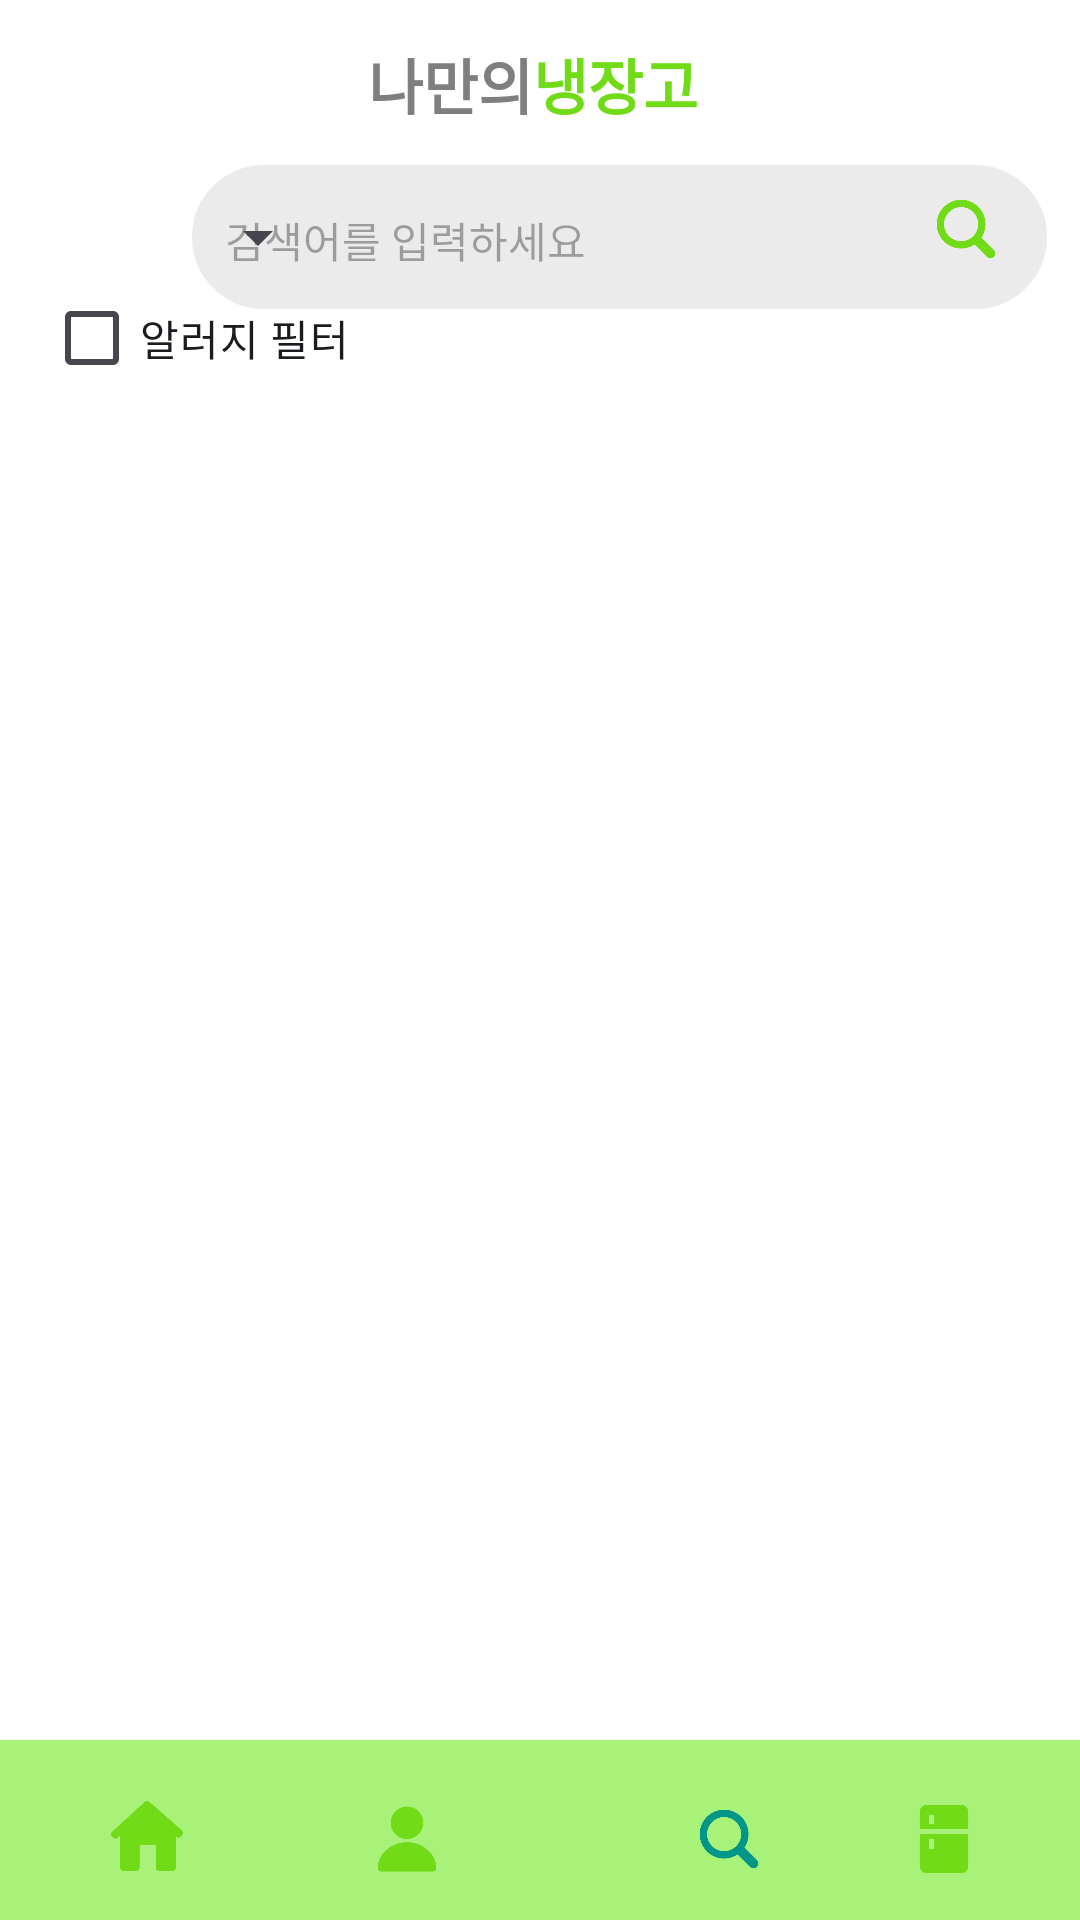

Screen size 1080 × 1920. Icon name, then its box in pixels as (x1, y1, x2, y2):
home: (111, 1801, 183, 1871)
mypage: (378, 1806, 436, 1872)
search: (937, 200, 995, 258), (700, 1810, 758, 1868)
